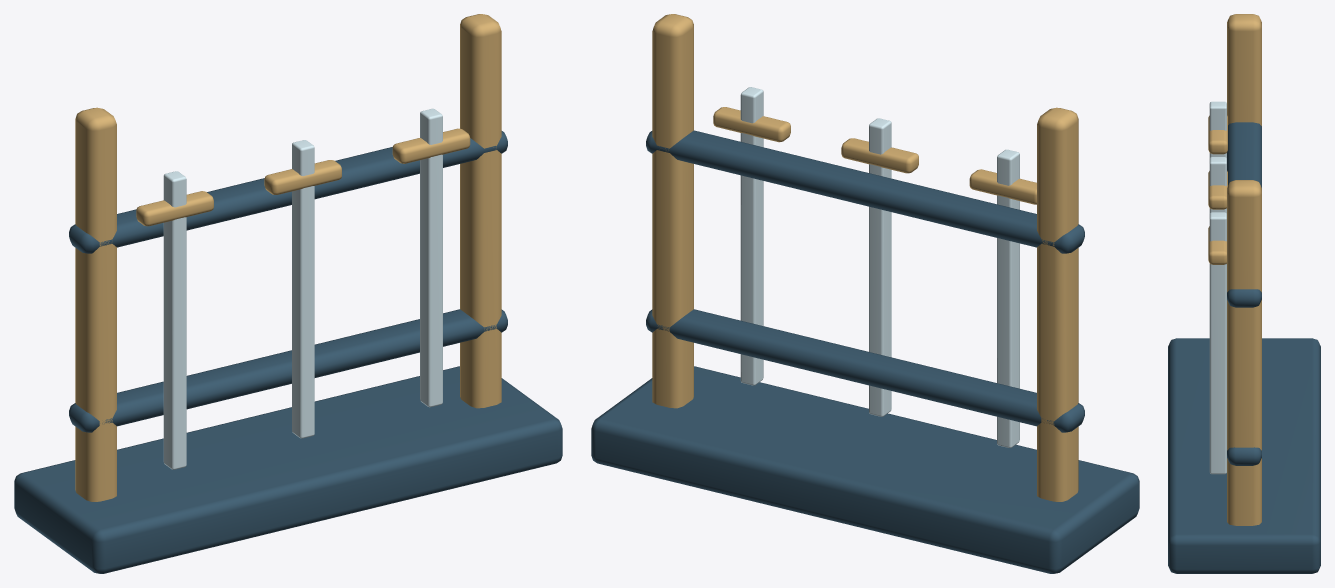
Rendered from weapon_rack.glb.
3 views of the same model, side by side, from view 1: azimuth 30°, elevation 25°; view 2: azimuth 150°, elevation 25°; view 3: azimuth 270°, elevation 25° (orthographic). The views are drawn at different scales.
Visible parts, largest first — view 1: rack_base, rack_upright, rack_upright.001, rack_rail, rack_rail.001, practice_blade, practice_blade.001, practice_blade.002, practice_guard, practice_guard.001, practice_guard.002; view 2: rack_base, rack_upright, rack_upright.001, rack_rail.001, rack_rail, practice_blade.002, practice_blade.001, practice_blade, practice_guard.001, practice_guard.002, practice_guard; view 3: rack_base, rack_upright.001, practice_blade.002, rack_upright, rack_rail.001, rack_rail, practice_blade.001, practice_blade, practice_guard, practice_guard.001, practice_guard.002.
Part boxes in pixels (<box>): rack_base: <box>14,366,562,573</box>; rack_upright: <box>75,107,116,501</box>; rack_upright.001: <box>460,14,501,408</box>; rack_rail: <box>69,309,507,432</box>; rack_rail.001: <box>69,131,507,253</box>; practice_blade: <box>163,171,186,469</box>; practice_blade.001: <box>292,140,314,438</box>; practice_blade.002: <box>420,108,442,407</box>; practice_guard: <box>136,191,213,226</box>; practice_guard.001: <box>264,160,341,194</box>; practice_guard.002: <box>392,128,470,163</box>; rack_base: <box>591,366,1139,573</box>; rack_upright: <box>1037,107,1078,501</box>; rack_upright.001: <box>652,14,693,408</box>; rack_rail.001: <box>646,130,1084,253</box>; rack_rail: <box>646,309,1084,432</box>; practice_blade.002: <box>740,87,763,385</box>; practice_blade.001: <box>869,118,891,416</box>; practice_blade: <box>997,149,1019,447</box>; practice_guard.001: <box>841,138,918,173</box>; practice_guard.002: <box>713,107,790,142</box>; practice_guard: <box>969,169,1036,204</box>; rack_base: <box>1168,338,1320,573</box>; rack_upright.001: <box>1227,180,1261,525</box>; practice_blade.002: <box>1209,212,1226,474</box>; rack_upright: <box>1227,14,1261,125</box>; rack_rail.001: <box>1227,122,1261,307</box>; rack_rail: <box>1227,447,1261,465</box>; practice_blade.001: <box>1209,157,1226,213</box>; practice_blade: <box>1209,101,1226,158</box>; practice_guard: <box>1208,115,1227,154</box>; practice_guard.001: <box>1208,171,1227,209</box>; practice_guard.002: <box>1208,226,1226,264</box>.
Size of the model in its own units: 2.2 by 1.9 by 0.7.
